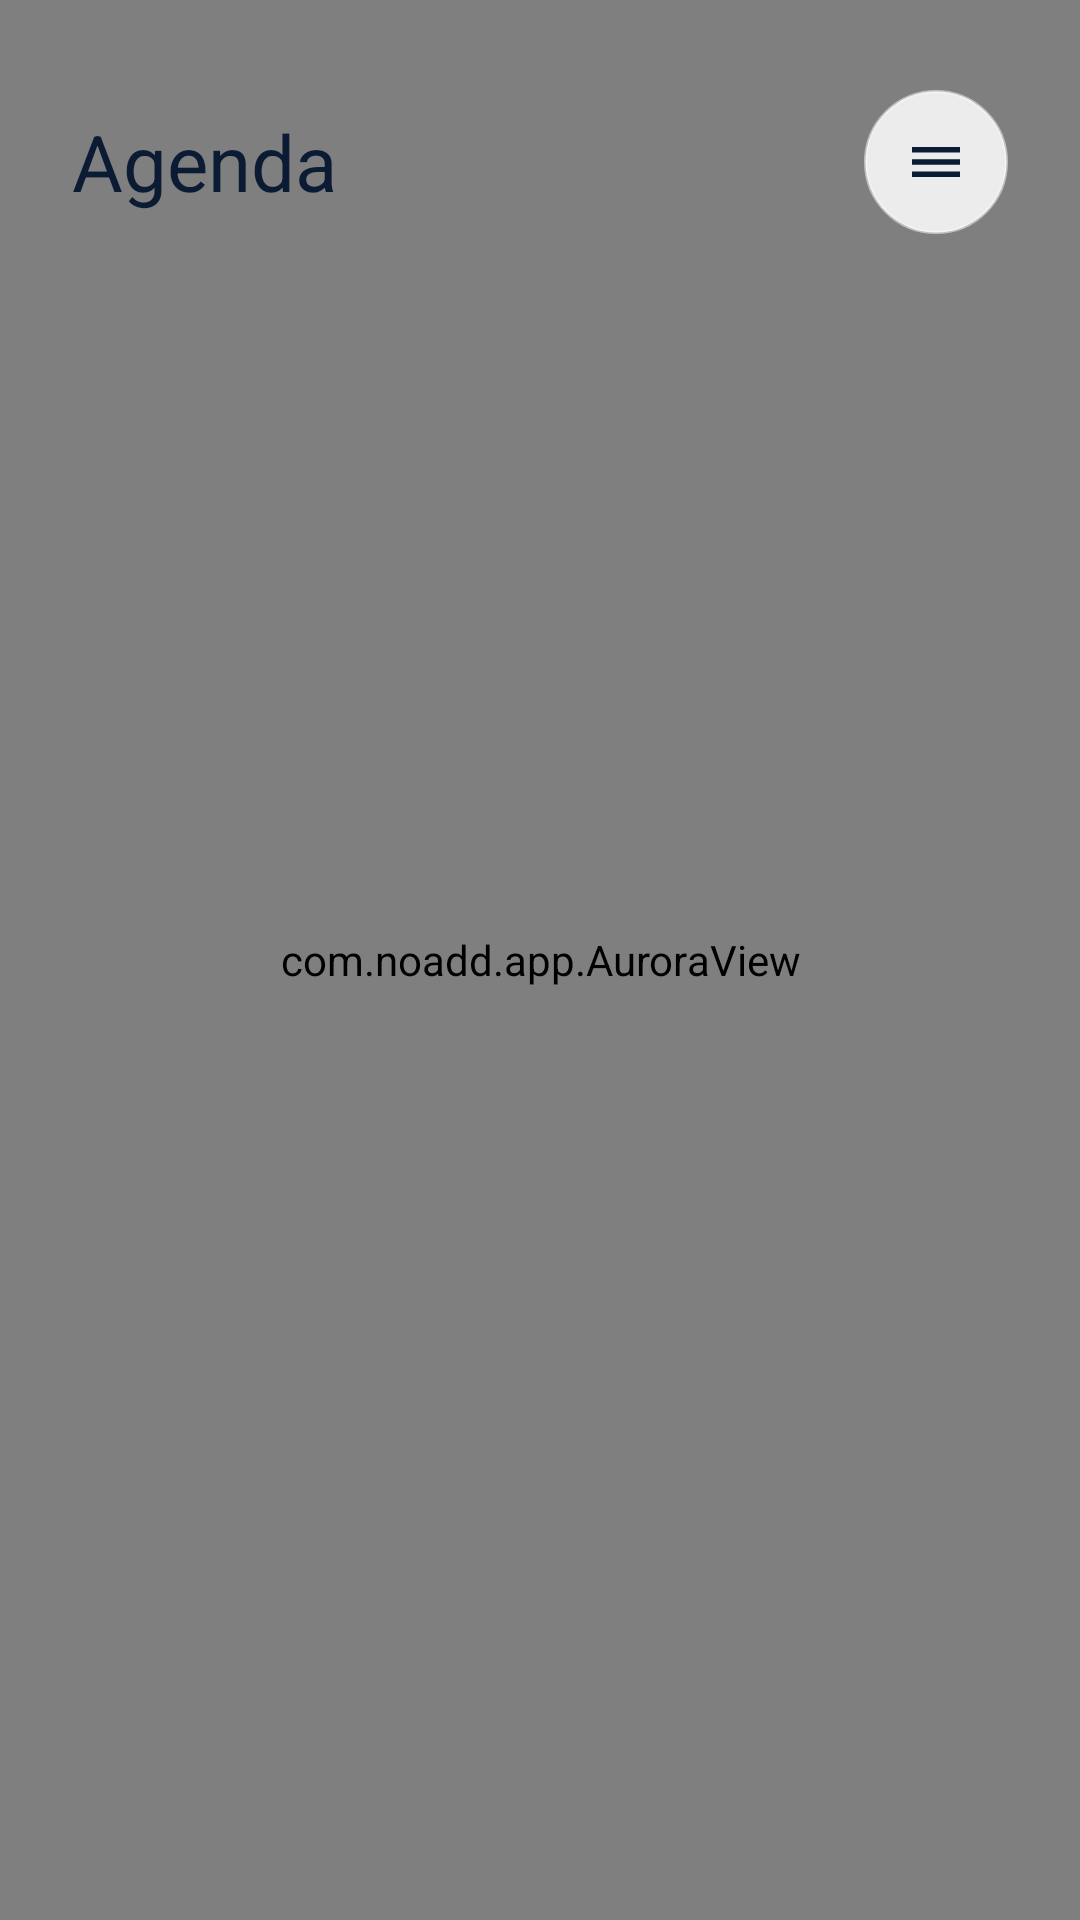

Icons on this 1080px x 1920px Android screen, each with its box as (x1, y1, x2, y2):
Menu: (864, 90, 1008, 234)
